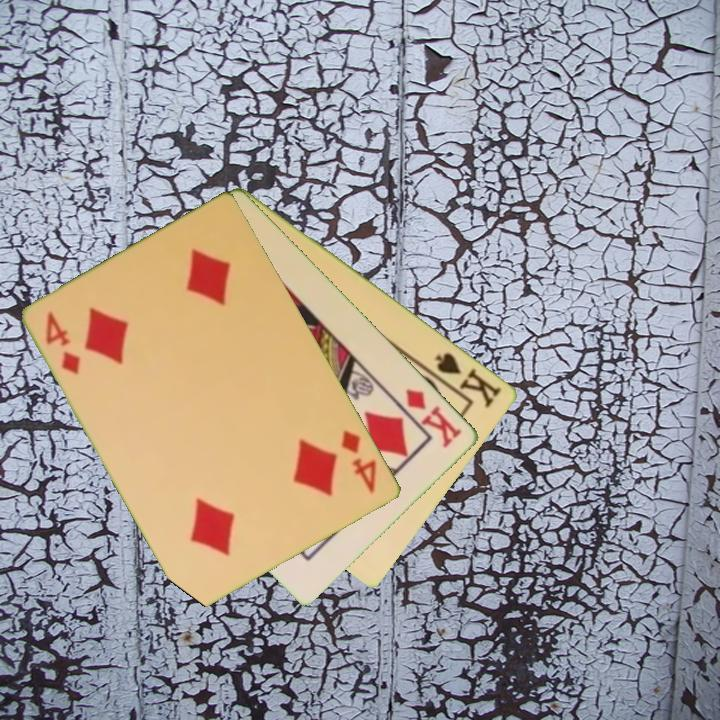4d: (338, 426, 381, 496), (42, 308, 84, 378)
Kd: (402, 385, 466, 451)
Ks: (432, 348, 505, 411)
